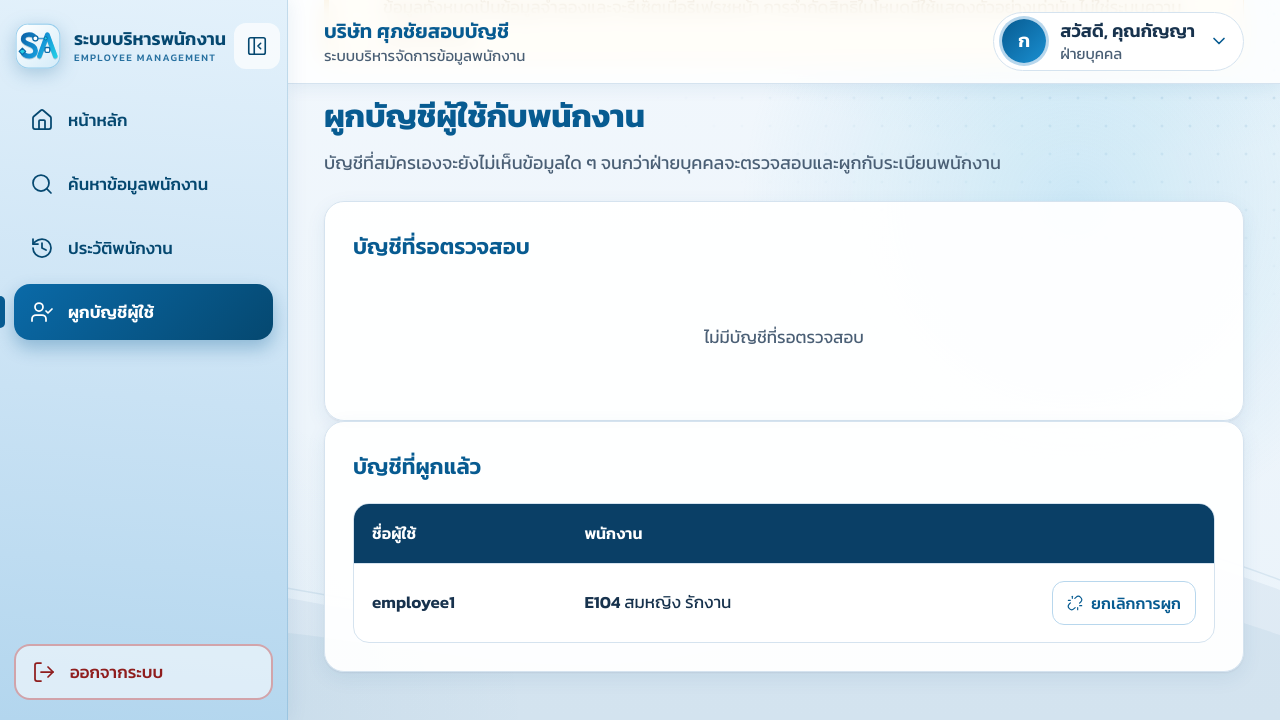
unlinking an account (HR) › asks for confirmation, can be cancelled without any change, then unlinks
(page scrolled)
Expected: the element named "บัญชีที่ผูกกับพนักงานแล้ว" is shown, [353,503,1215,643]
What coordinates should you click on to do the following:
click the button with aria-label "ยกเลิกการผูกบัญชี employee1"
I would click on:
 (1124, 603)
Its box is [1052,581,1196,625].
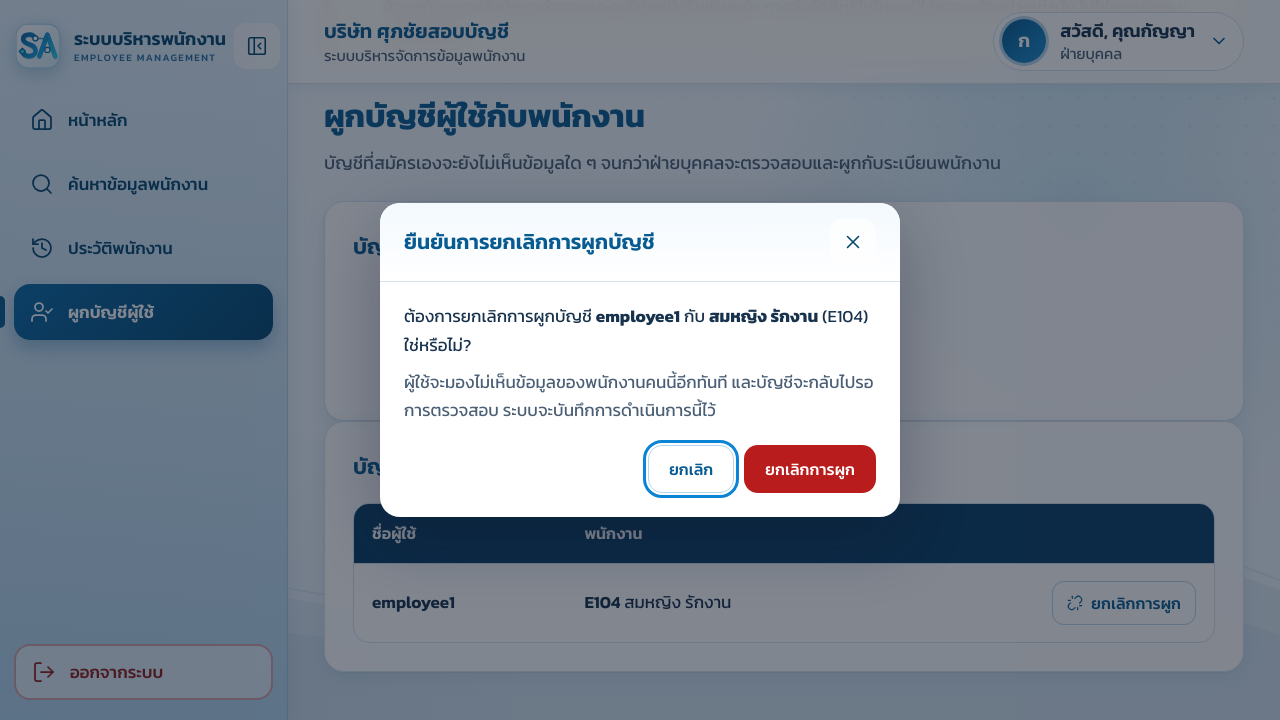
Expected: the text "ผู้ใช้จะมองไม่เห็นข้อมูล" is shown, [404,368,874,423]
What coordinates should you click on to do the following:
click the button "ยกเลิก"
I would click on:
 (691, 469)
Its box is [648,445,734,493].
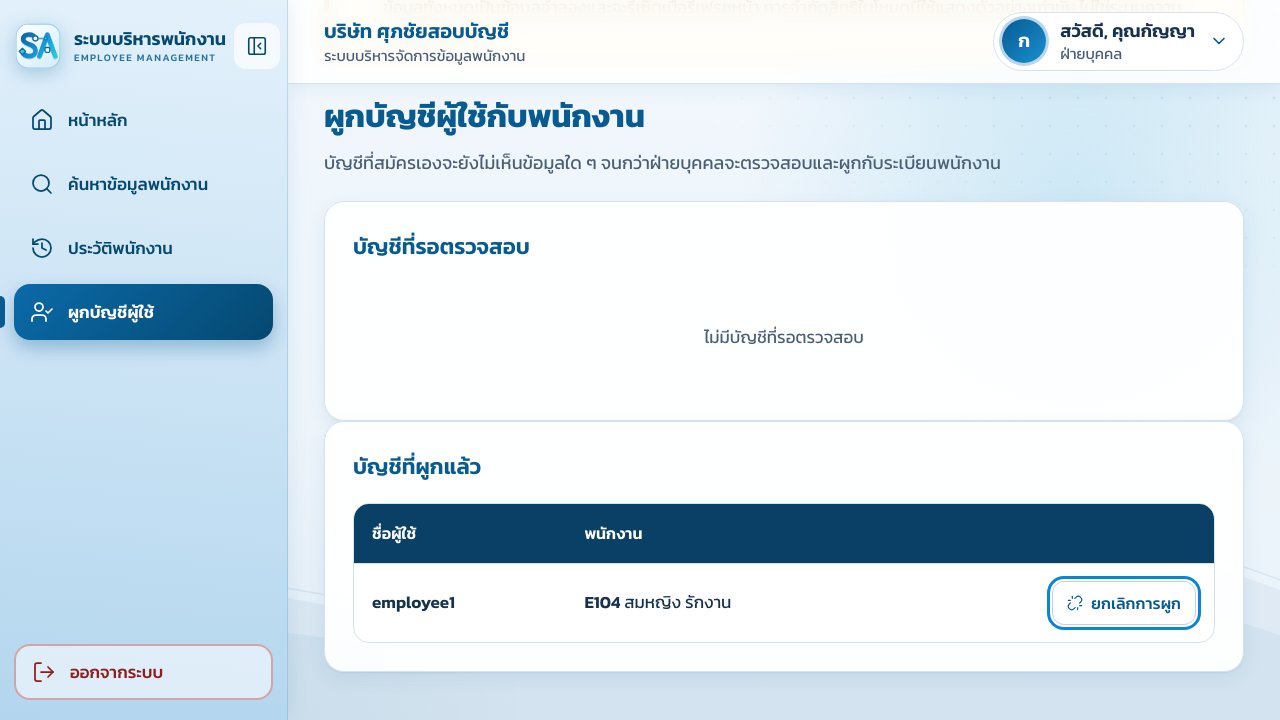
Expected: the text "employee1" is shown, [354,563,566,642]
Expected: the dialog is gone
What coordinates should you click on to do the following:
click the button with aria-label "ยกเลิกการผูกบัญชี employee1"
I would click on:
 (1124, 603)
Its box is [1052,581,1196,625].
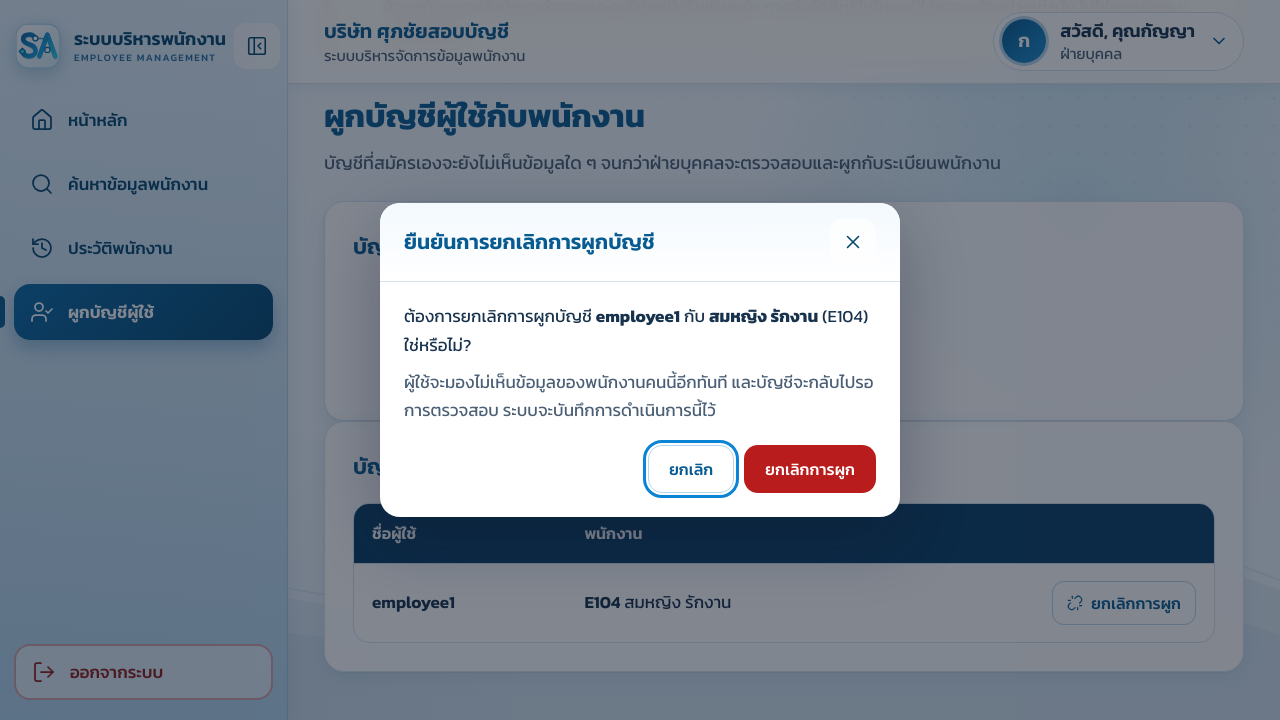
What coordinates should you click on to do the following:
click the button "ยกเลิกการผูก"
I would click on:
 (810, 469)
Its box is [744,445,876,493].
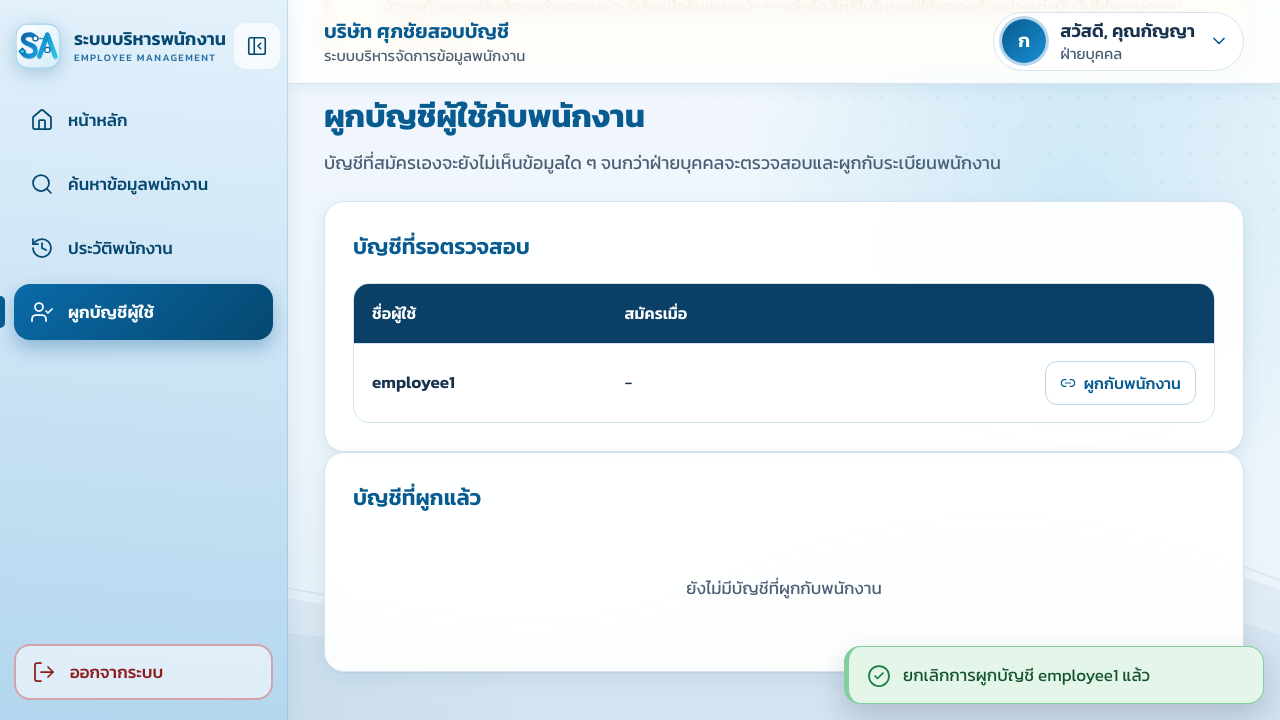
Expected: the text "employee1" is shown, [354,343,606,422]
Expected: the element named "บัญชีที่รอผูกกับพนักงาน" is shown, [353,283,1215,423]
Expected: the dialog is gone
